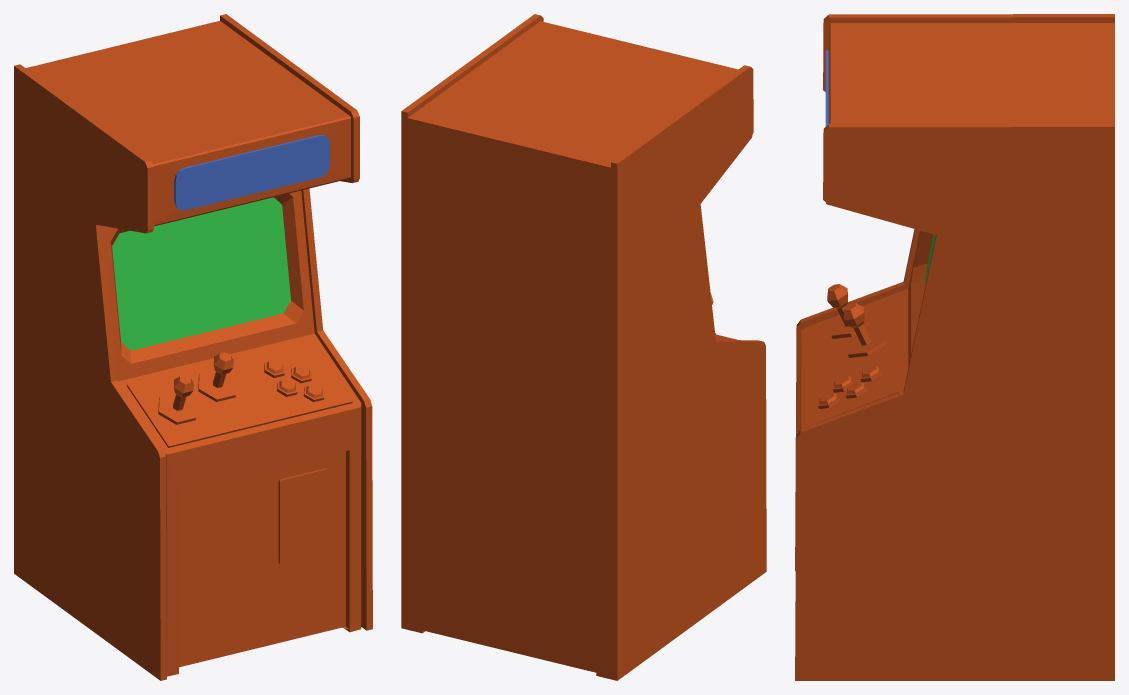
File: SM_slot_machine.fbx
3 renders of one model, left to right at view 1: azimuth 30°, elevation 25°; view 2: azimuth 150°, elevation 25°; view 3: azimuth 270°, elevation 25°, orthographic. The views are drawn at different scales.
Visible parts, largest first — view 1: slot_machine; view 2: slot_machine; view 3: slot_machine.
Boxes of the visible parts, x1,y1,x2,y2 form: slot_machine: (14, 14, 372, 680); slot_machine: (401, 14, 766, 680); slot_machine: (795, 14, 1114, 680).
Bounding box in the file's own units: 96.22 × 220 × 115.
